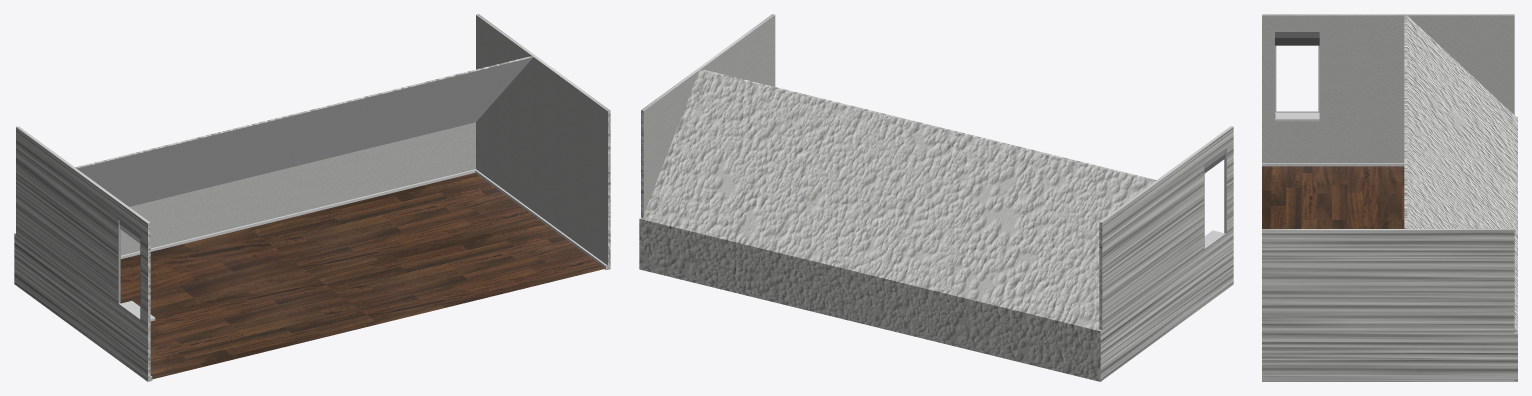
The model's file is attic.fbx.
3 renders of one model, left to right at view 1: azimuth 30°, elevation 25°; view 2: azimuth 150°, elevation 25°; view 3: azimuth 270°, elevation 25°, orthographic. The views are drawn at different scales.
Visible parts, largest first — view 1: pCube3, pPlane4, pPlane2, pPlane3, pPlane1; view 2: pCube3; view 3: pCube3, pPlane3, pPlane1.
Boxes of the visible parts, left/top/right/bottom form: pCube3: left=14, top=14, right=610, bottom=381; pPlane4: left=313, top=220, right=605, bottom=323; pPlane2: left=248, top=173, right=539, bottom=275; pPlane3: left=150, top=276, right=378, bottom=379; pPlane1: left=120, top=228, right=312, bottom=314; pCube3: left=639, top=14, right=1233, bottom=381; pCube3: left=1262, top=14, right=1517, bottom=381; pPlane3: left=1262, top=166, right=1388, bottom=228; pPlane1: left=1388, top=166, right=1404, bottom=228.
Size of the model in its own units: 8.1 by 2.65 by 4.05.
Materials: 6 (3 with a texture image).
